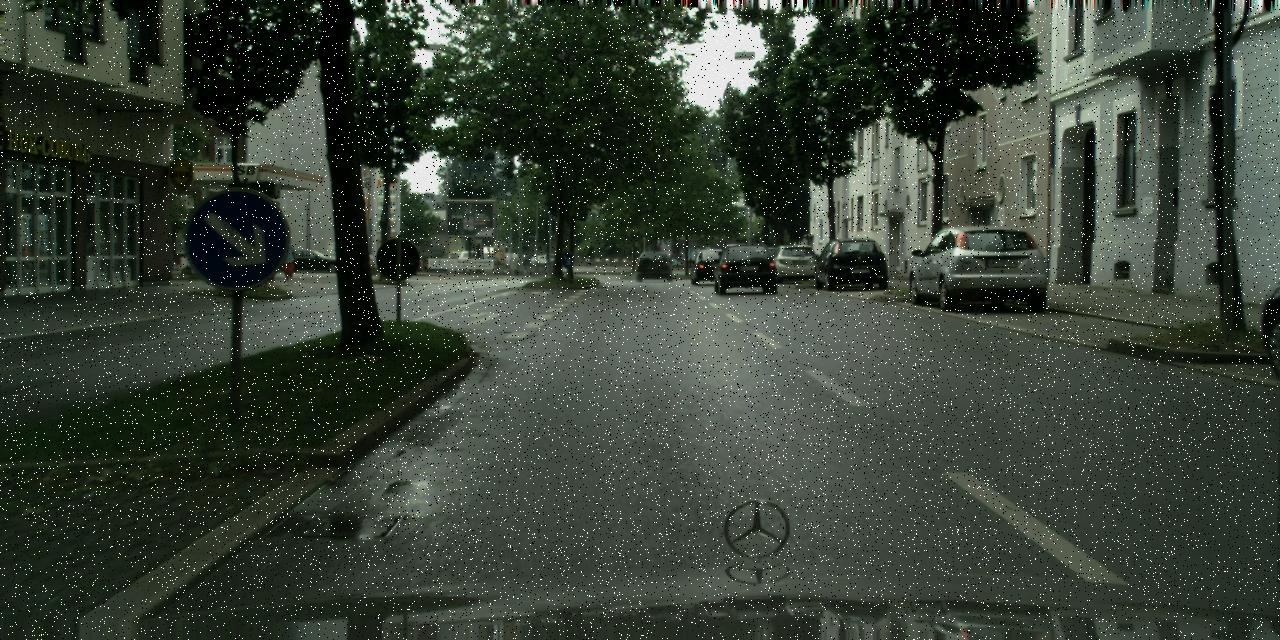ped: (279, 236, 299, 286)
